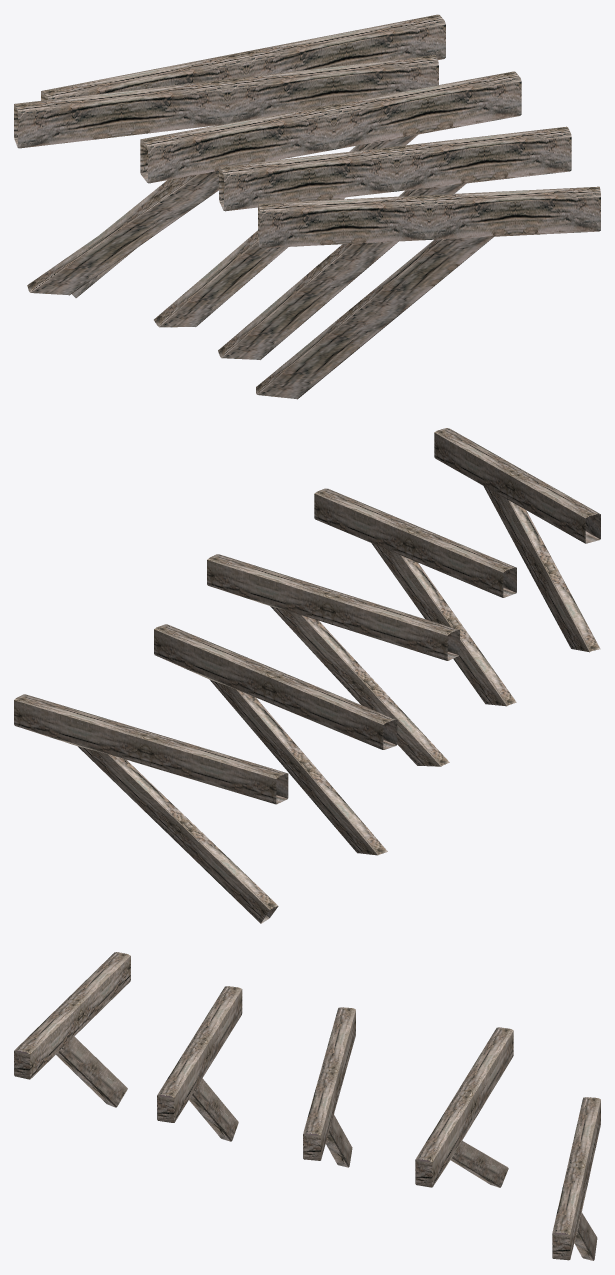
File: St_WoodRail.fbx
The picture shows the model from 3 angles, top to bottom: view 1: azimuth 30°, elevation 25°; view 2: azimuth 150°, elevation 25°; view 3: azimuth 270°, elevation 25°; orthographic projection. The views are drawn at different scales.
Visible parts, largest first — view 1: polySurface27; view 2: polySurface27; view 3: polySurface27.
Part boxes in pixels (x1,y1,x2,y2): polySurface27: (14,14,600,399); polySurface27: (14,428,600,923); polySurface27: (14,952,600,1260).
Size of the model in its own units: 249 by 172 by 351.
